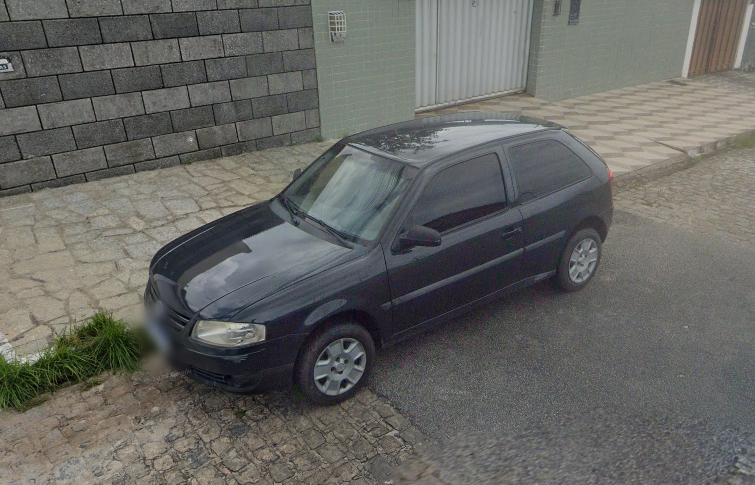car: (141, 104, 615, 406)
